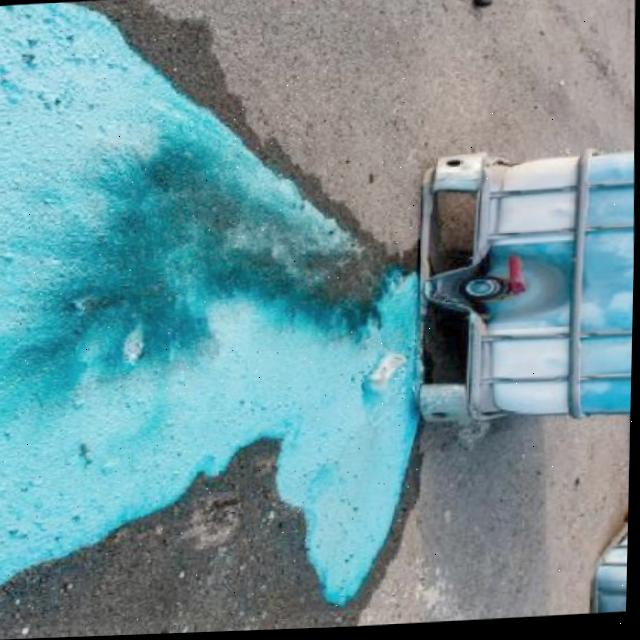spillage: (0, 3, 420, 613)
